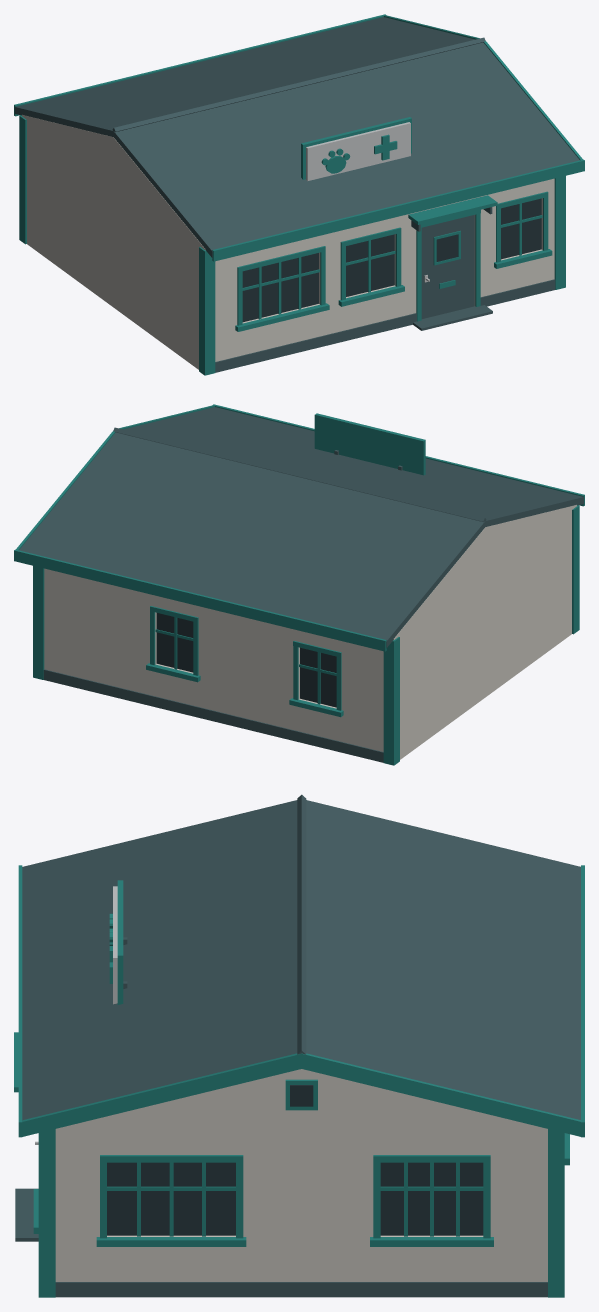
The model's file is clinic.glb.
3 renders of one model, top to bottom at view 1: azimuth 30°, elevation 25°; view 2: azimuth 150°, elevation 25°; view 3: azimuth 270°, elevation 25°, orthographic. The views are drawn at different scales.
Visible parts, largest first — view 1: roof_slate, sideR_wall, front_wall, front_trim, roof_trim, front_dark, roof_wall, front_slate, door_slate, roof_pale, back_trim, door_dark; view 2: roof_slate, back_wall, sideR_wall, roof_trim, back_trim, roof_wall, back_slate, back_dark, front_trim; view 3: roof_slate, sideL_wall, sideL_dark, roof_trim, roof_wall, sideL_trim, sideL_slate, front_trim, back_trim, front_slate.
Boxes of the visible parts, x1=… form: roof_slate: x1=15, y1=17, x2=579, y2=257; sideR_wall: x1=27, y1=120, x2=199, y2=369; front_wall: x1=215, y1=178, x2=554, y2=361; front_trim: x1=199, y1=176, x2=565, y2=375; roof_trim: x1=14, y1=14, x2=584, y2=261; front_dark: x1=242, y1=198, x2=541, y2=322; roof_wall: x1=22, y1=115, x2=205, y2=249; front_slate: x1=215, y1=207, x2=555, y2=372; door_slate: x1=421, y1=215, x2=474, y2=318; roof_pale: x1=306, y1=122, x2=410, y2=181; back_trim: x1=19, y1=115, x2=26, y2=244; door_dark: x1=436, y1=234, x2=458, y2=261; roof_slate: x1=19, y1=407, x2=583, y2=647; back_wall: x1=44, y1=568, x2=383, y2=751; sideR_wall: x1=399, y1=510, x2=571, y2=759; roof_trim: x1=14, y1=404, x2=584, y2=651; back_trim: x1=33, y1=566, x2=399, y2=765; roof_wall: x1=393, y1=505, x2=576, y2=639; back_slate: x1=43, y1=669, x2=383, y2=762; back_dark: x1=156, y1=613, x2=336, y2=707; front_trim: x1=572, y1=505, x2=579, y2=634; roof_slate: x1=22, y1=794, x2=580, y2=1120; sideL_wall: x1=55, y1=1120, x2=547, y2=1281; sideL_dark: x1=107, y1=1162, x2=483, y2=1235; roof_trim: x1=18, y1=865, x2=584, y2=1137; roof_wall: x1=90, y1=1069, x2=512, y2=1120; sideL_trim: x1=96, y1=1155, x2=493, y2=1246; sideL_slate: x1=55, y1=1282, x2=547, y2=1297; front_trim: x1=14, y1=1032, x2=55, y2=1297; back_trim: x1=548, y1=1129, x2=569, y2=1297; front_slate: x1=15, y1=1188, x2=38, y2=1241.
Size of the model in its own units: 9.38 by 4.32 by 8.77.
